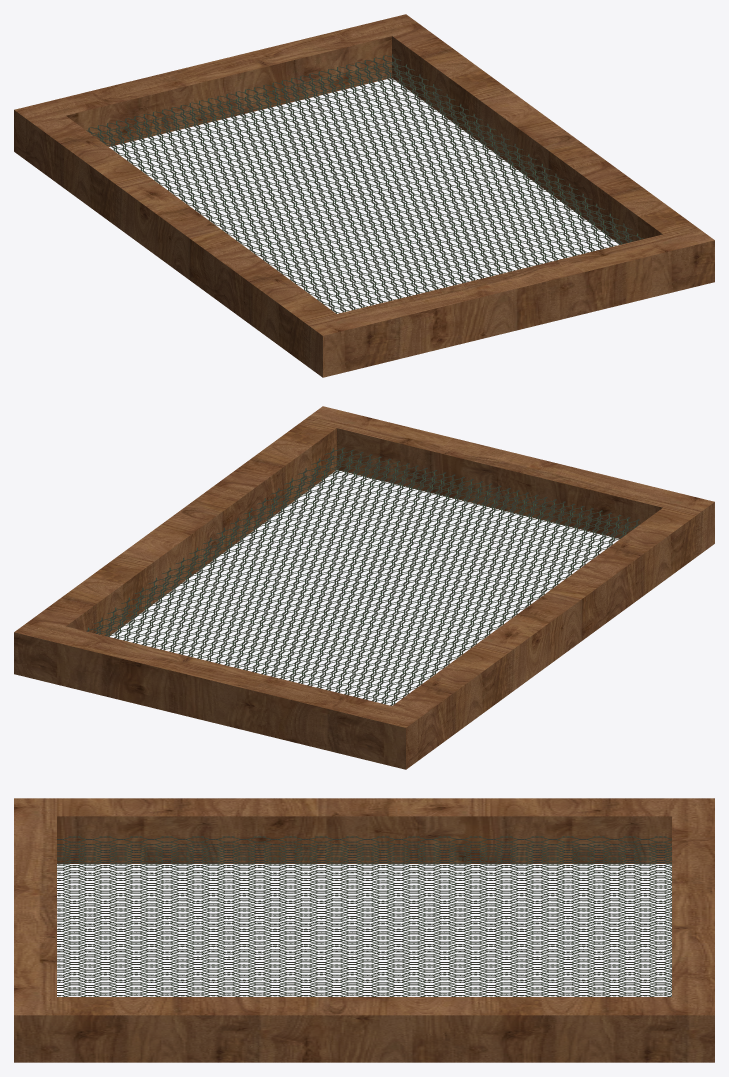
File: Sieve.fbx
3 views of the same model, one above another, from view 1: azimuth 30°, elevation 25°; view 2: azimuth 150°, elevation 25°; view 3: azimuth 270°, elevation 25° (orthographic). The views are drawn at different scales.
Visible parts, largest first — view 1: Wooden_frame1, Sieve; view 2: Wooden_frame1, Sieve; view 3: Wooden_frame1, Sieve.
Part boxes in pixels (<box>): Wooden_frame1: <box>14,14,714,377</box>; Sieve: <box>86,54,643,313</box>; Wooden_frame1: <box>14,406,714,769</box>; Sieve: <box>86,447,639,705</box>; Wooden_frame1: <box>14,798,714,1062</box>; Sieve: <box>57,836,671,996</box>.
Bounding box in the file's own units: 1.49 × 0.1519 × 2.03.
2 materials, 2 textured.
